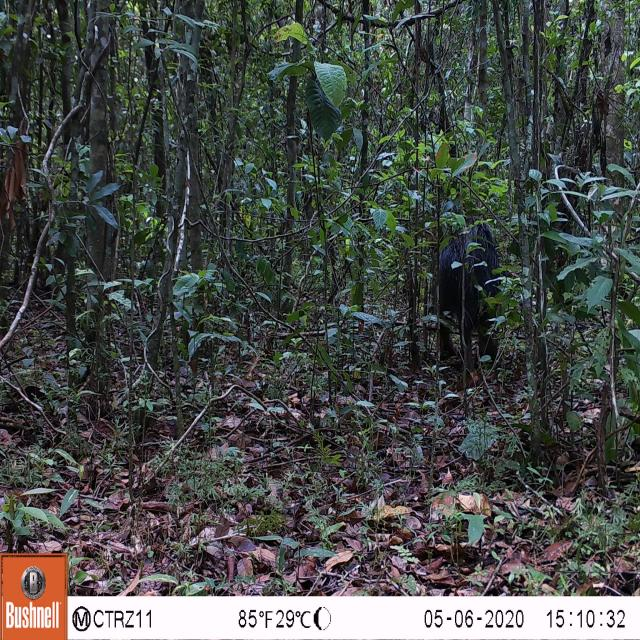Giant Anteater: (421, 217, 510, 376)
